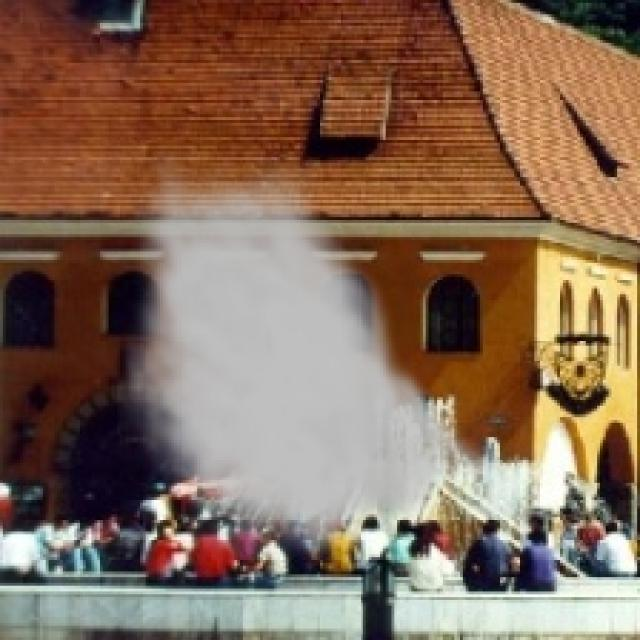Smoke: (117, 148, 520, 568)
